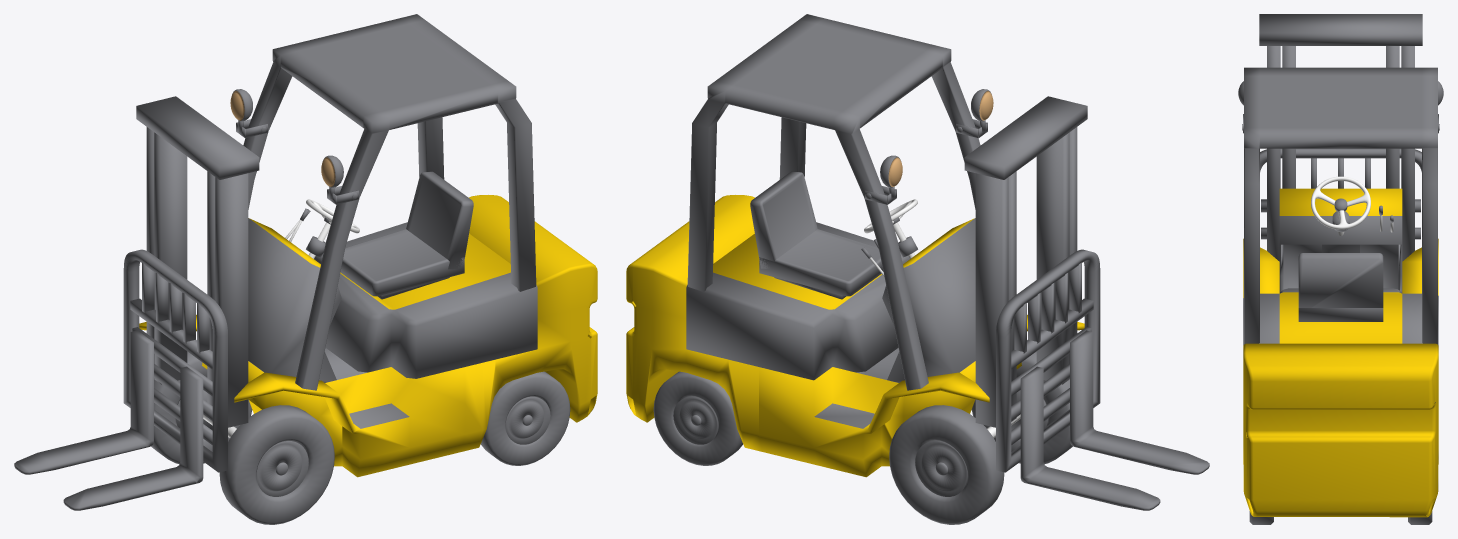
The model's file is Forklift.fbx.
3 renders of one model, left to right at view 1: azimuth 30°, elevation 25°; view 2: azimuth 150°, elevation 25°; view 3: azimuth 270°, elevation 25°, orthographic. The views are drawn at different scales.
Visible parts, largest first — view 1: Forklift, forks, upperlift, wheel.front.l, wheel.front.r; view 2: Forklift, forks, upperlift, wheel.front.r, wheel.front.l; view 3: Forklift, upperlift, forks.
Boxes of the visible parts, x1,y1,x2,y2 form: Forklift: (139,14,597,477); forks: (14,249,227,510); upperlift: (136,96,259,427); wheel.front.l: (219,405,334,524); wheel.front.r: (151,351,252,464); Forklift: (626,14,1084,477); forks: (996,249,1209,510); upperlift: (964,96,1087,427); wheel.front.r: (889,405,1004,524); wheel.front.l: (971,351,1072,464); Forklift: (1238,46,1443,524); upperlift: (1259,14,1422,261); forks: (1260,148,1421,239).
Size of the model in its own units: 172 by 124 by 61.46.
